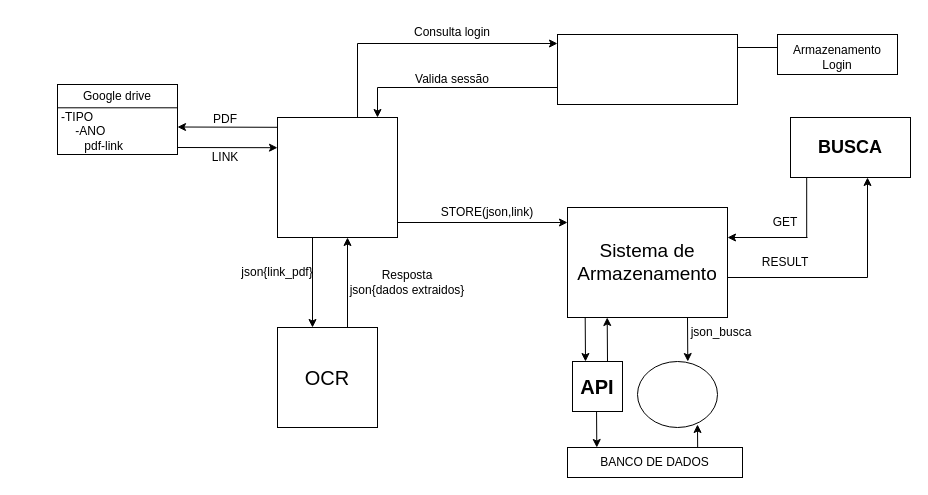
Some shapes in this 928 by 495 pixel diagram are drawn without their labels. Here are the shapes that lost their labels. From the top down, the box of each, then its label:
(556, 34, 738, 104): Gerenciamento de usuários
(276, 116, 398, 238): Módulo de Cadastro
(636, 360, 718, 428): AGR BUSCA
